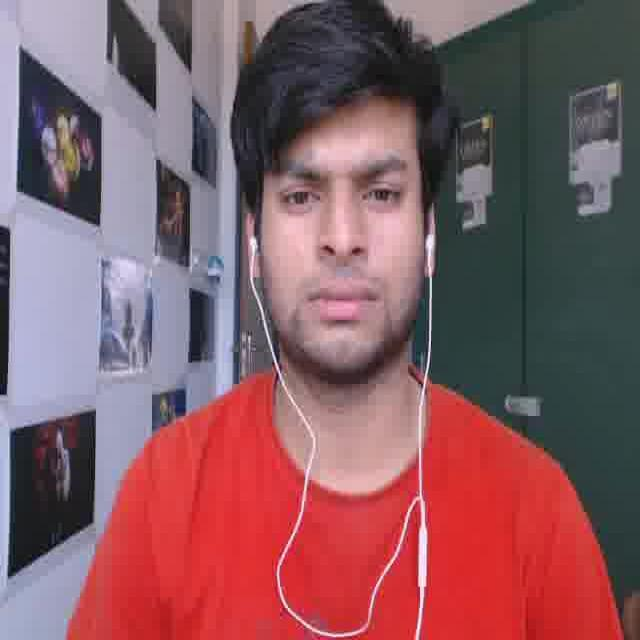Frustration: (254, 91, 421, 364)
